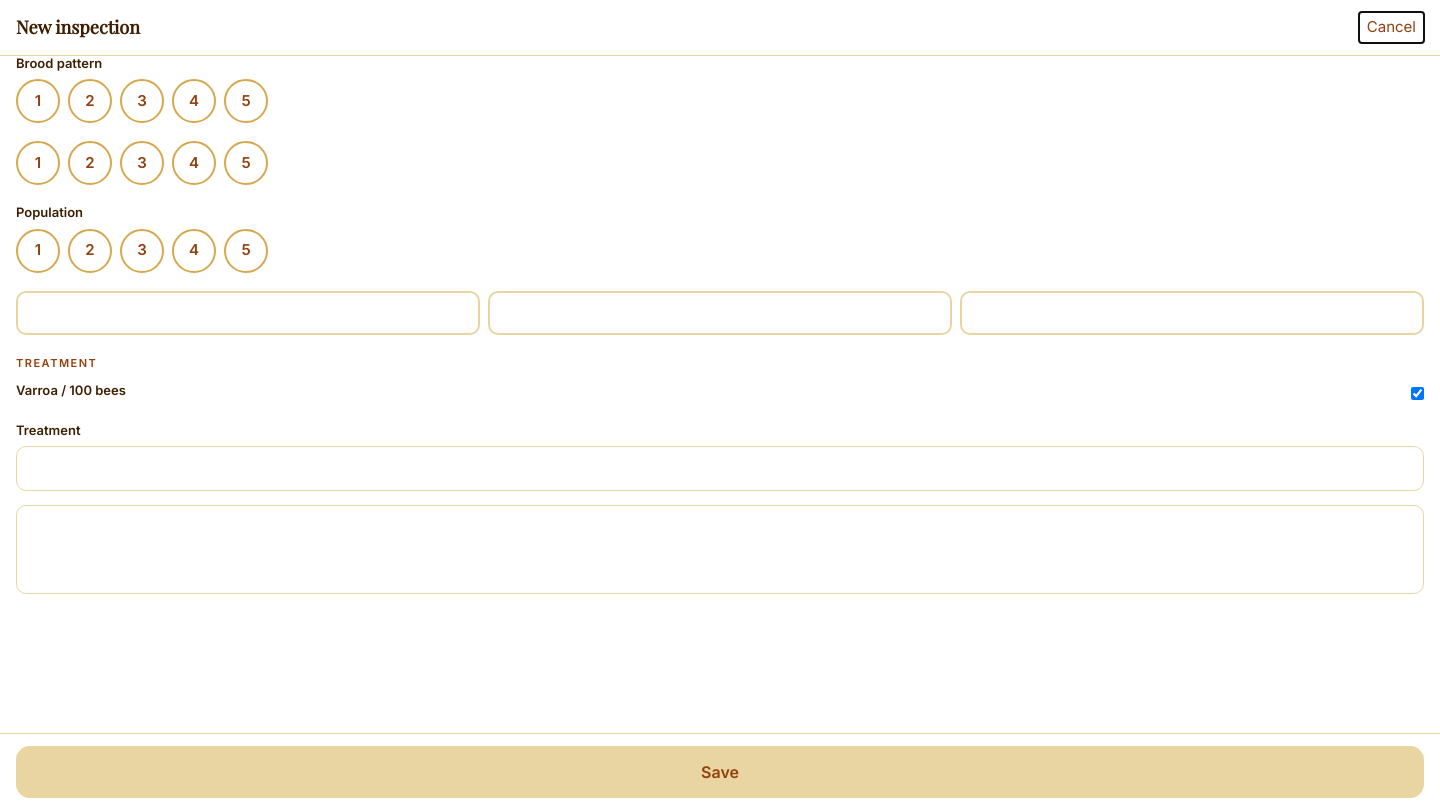
Test: InspectionForm › varroa input appears when not-tested unchecked
(page scrolled)
Click the checkbox at (1418, 394), box 1411,387 -> 1424,400
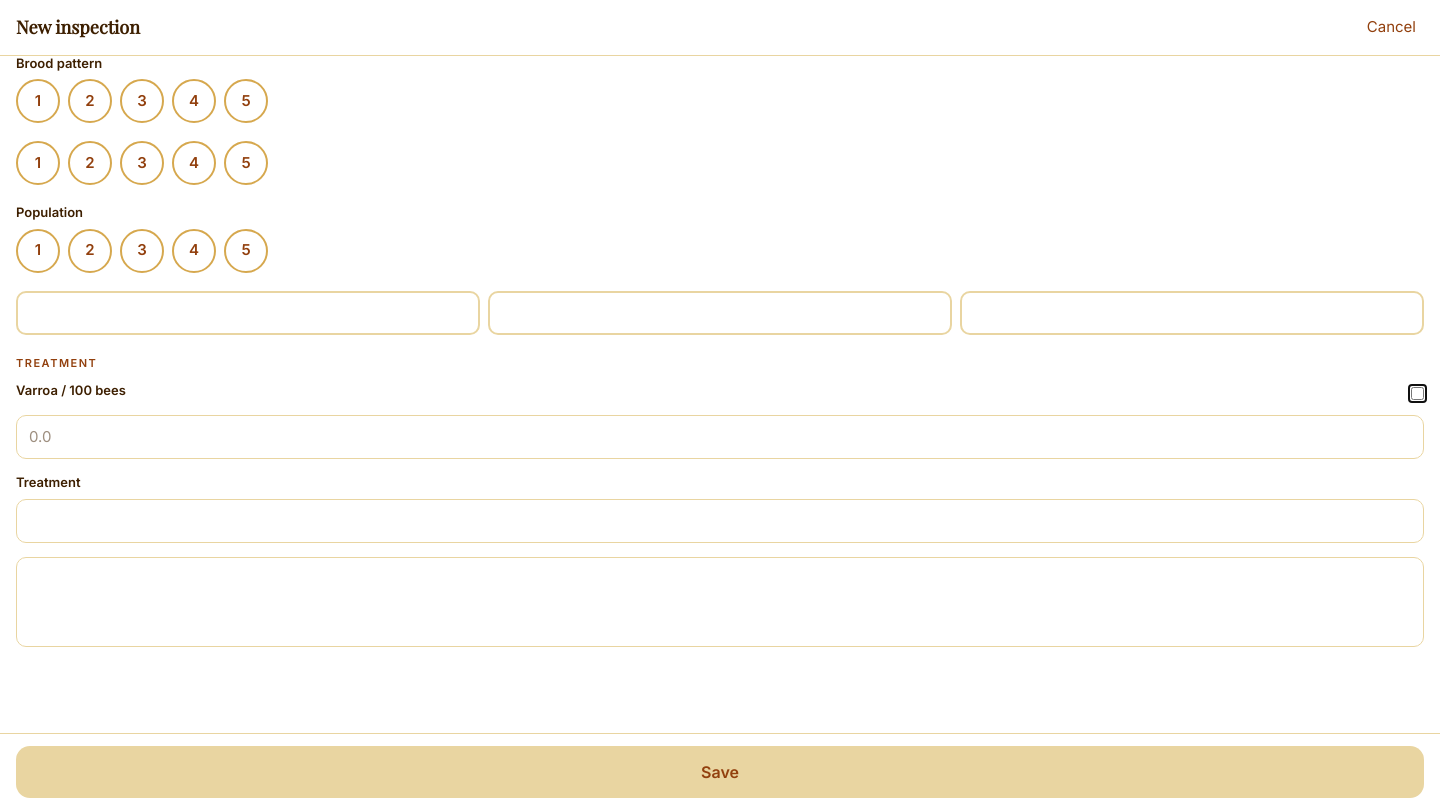
Result: the number field with placeholder "0.0" is shown at 16,414 -> 1424,459
